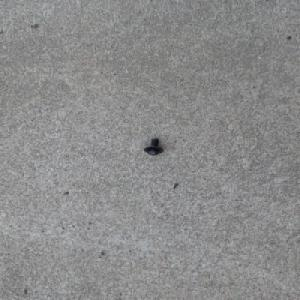BoltWasher: (143, 138, 163, 155)
